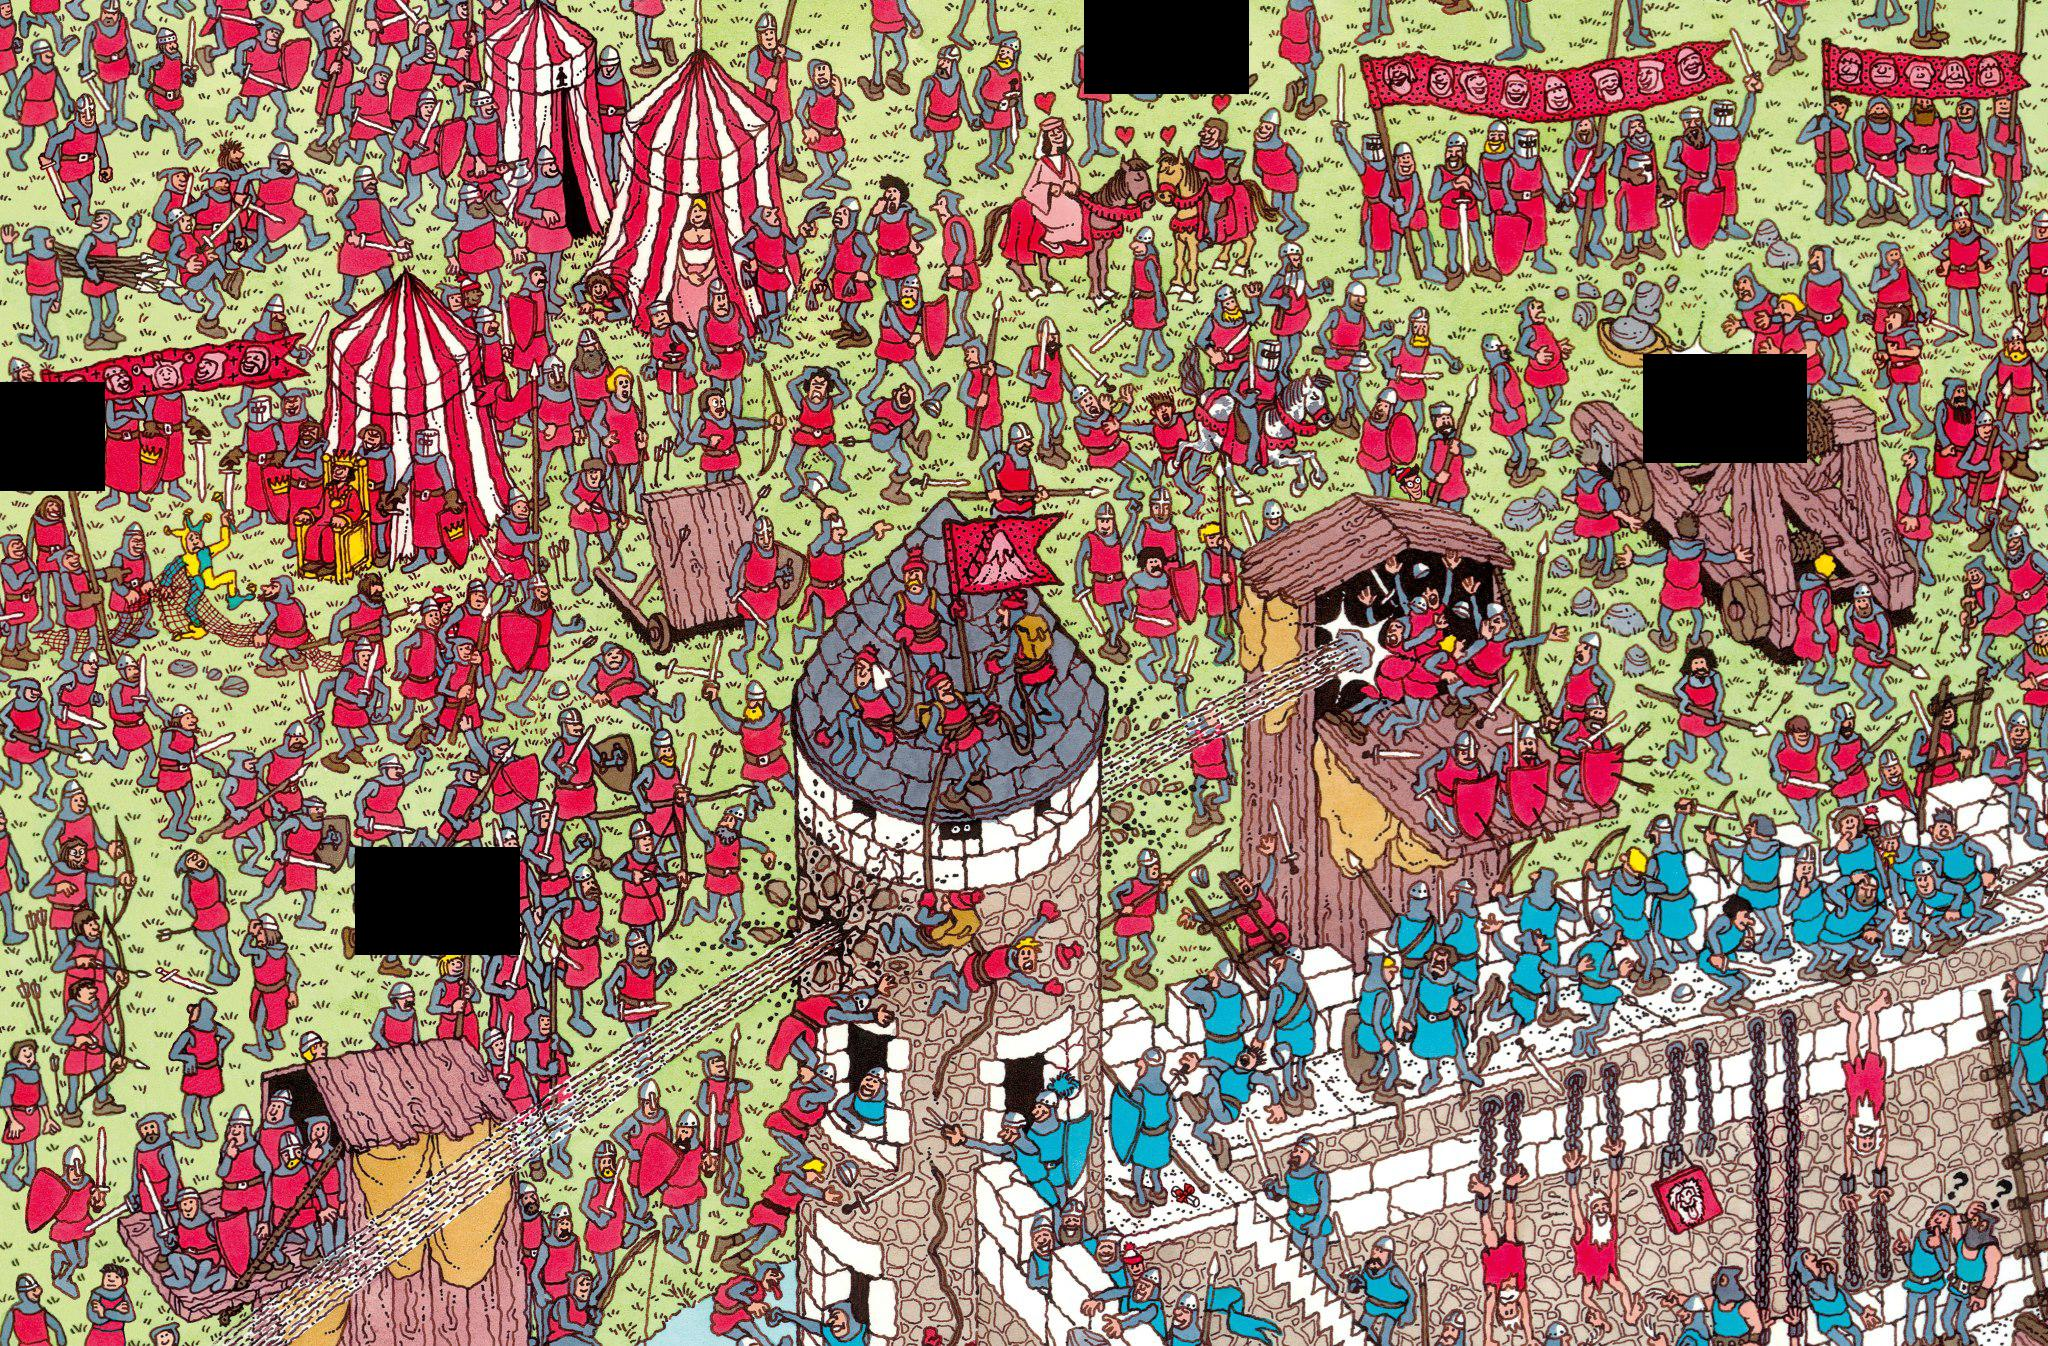waldo: (1390, 463, 1422, 500)
